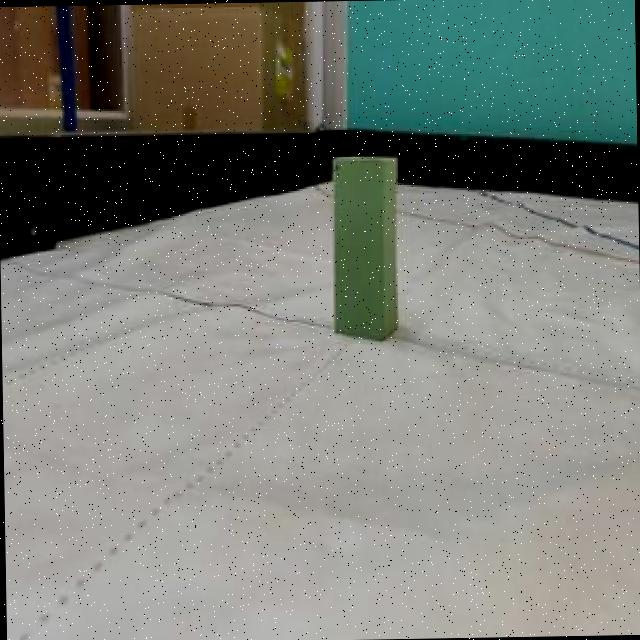greenbox: (332, 152, 399, 342)
